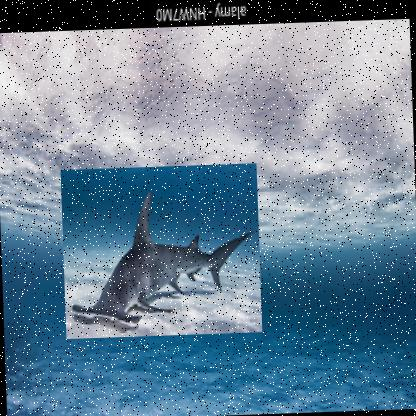hammerhead_Shark: (60, 162, 262, 339)
